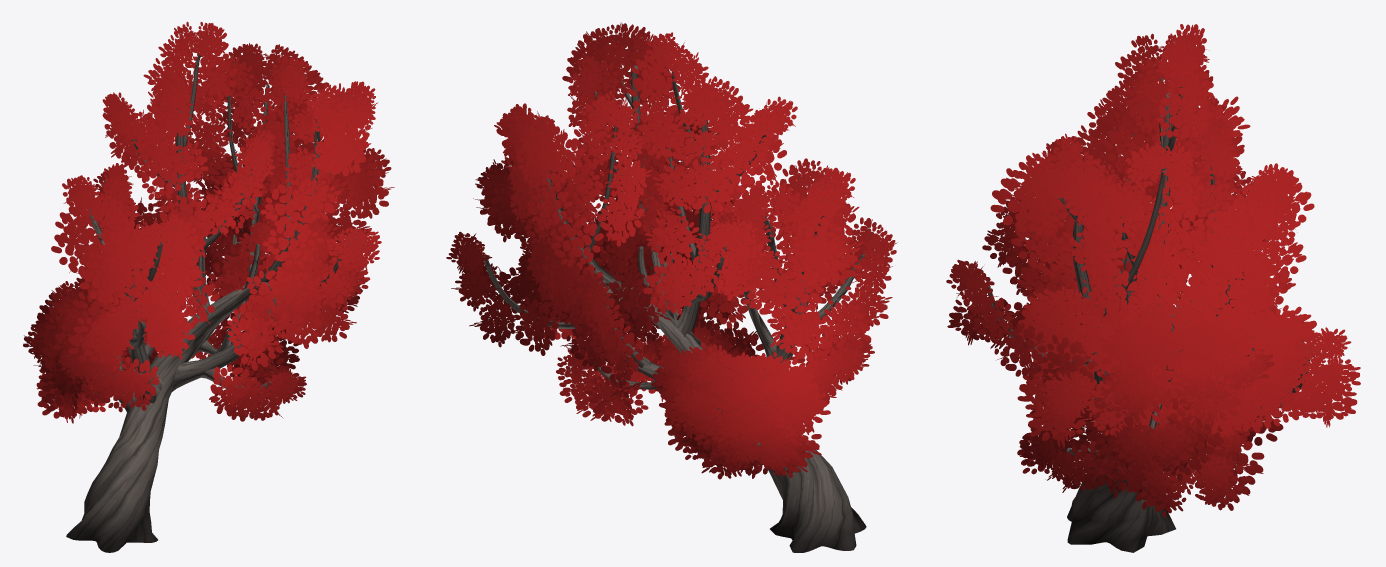
The model's file is TwistedTree_1.glb.
3 views of the same model, side by side, from view 1: azimuth 30°, elevation 25°; view 2: azimuth 150°, elevation 25°; view 3: azimuth 270°, elevation 25° (orthographic). The views are drawn at different scales.
Parts seen in each view (by area): view 1: TwistedTree_1; view 2: TwistedTree_1; view 3: TwistedTree_1.
Part boxes in pixels (left/top/right/bottom): TwistedTree_1: left=23, top=21, right=394, bottom=552; TwistedTree_1: left=446, top=22, right=897, bottom=552; TwistedTree_1: left=946, top=24, right=1360, bottom=552.
Bounding box in the file's own units: 13.52 × 16.73 × 11.55.
Materials: 2 (2 with a texture image).
